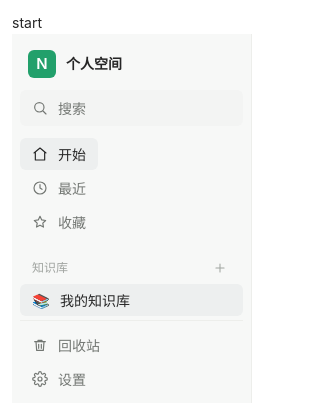
Test: GlobalSidebar › 主导航切换视图
Click the button labelled "最近". click: {"x": 132, "y": 188}
box: [20,172,243,204]
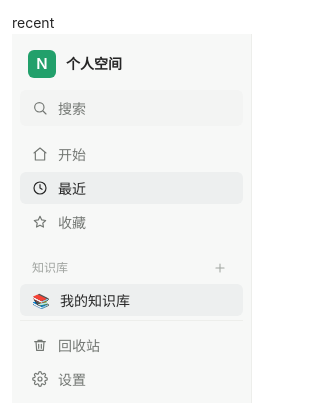
Check: the text with test id "view" reads "recent", box [12,14,54,31]
Click the button labelled "收藏". click: {"x": 132, "y": 222}
box: [20,206,243,238]
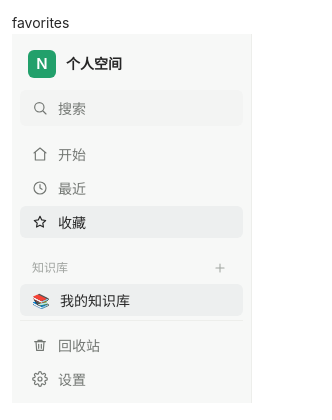
Check: the text with test id "view" reads "favorites", box [12,14,69,31]
Click the button labelled "开始". click: {"x": 59, "y": 154}
box: [20,138,98,170]
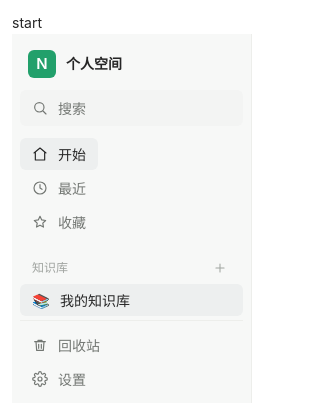
Check: the text with test id "view" reads "start", box [12,14,42,31]
